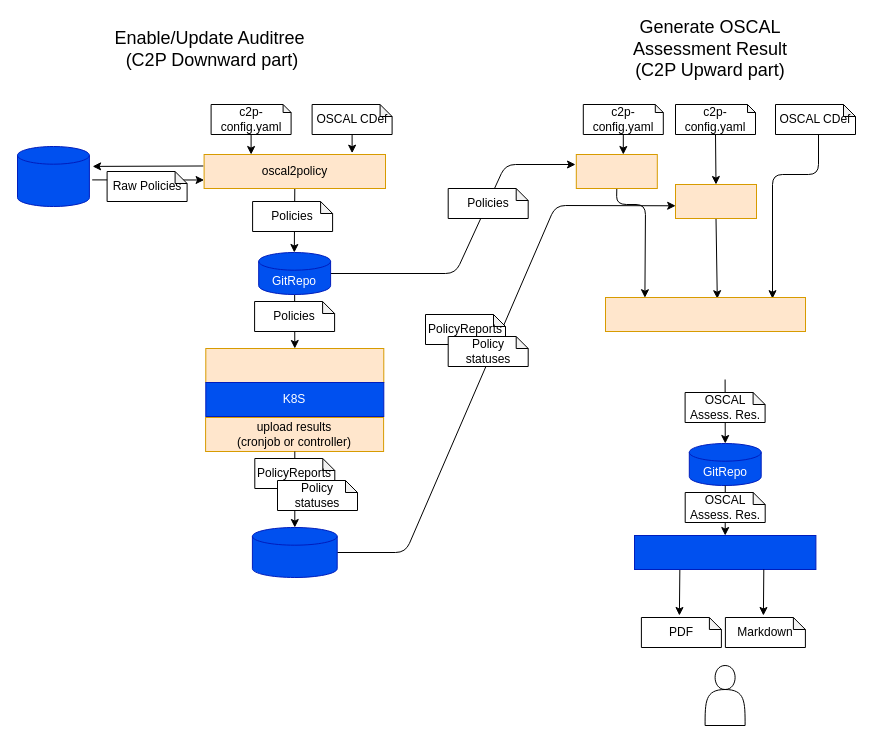
The diagram is 873 pixels wide and 743 high, and some of its shapes have lost their labels. The shapes that lost their labels are listed below. From the top down, each one's centre as x and y in pixels, then its label:
At point 52,176: "Policy Collection".
At point 616,171: "fetch policies".
At point 715,201: "fetch results".
At point 705,314: "results2oscal".
At point 294,365: "sync (GitOps engine)".
At point 294,552: "Evidence Locker".
At point 725,552: "OSCAL consumer".
